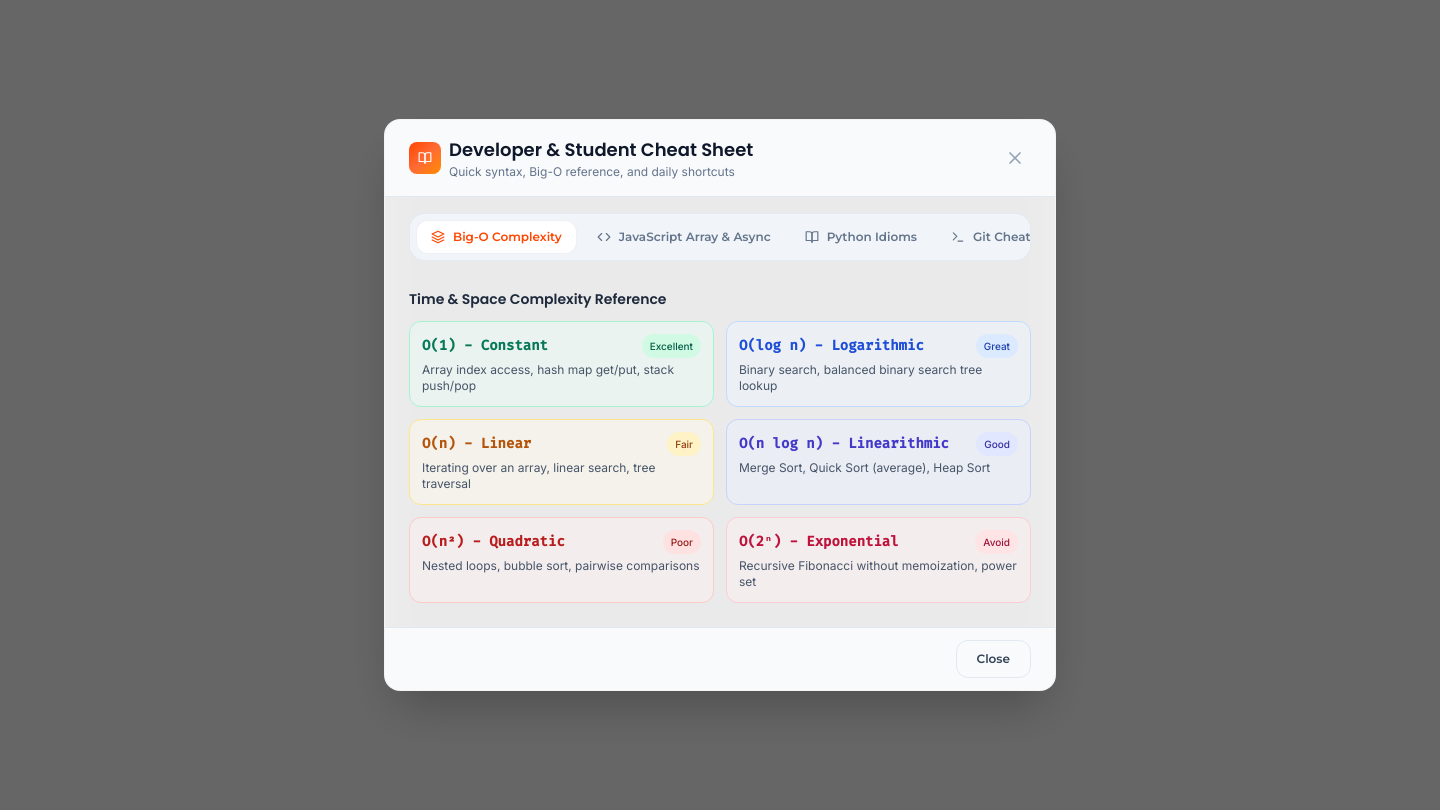
Test: Developer & Student Tools Test Suite › 2. CheatSheetModal Component › switches to Python Idioms and Git Cheatsheet tabs
The image size is (1440, 810).
Click the button "Python Idioms" at (861, 237), box x1=791 y1=221 x2=931 y2=253
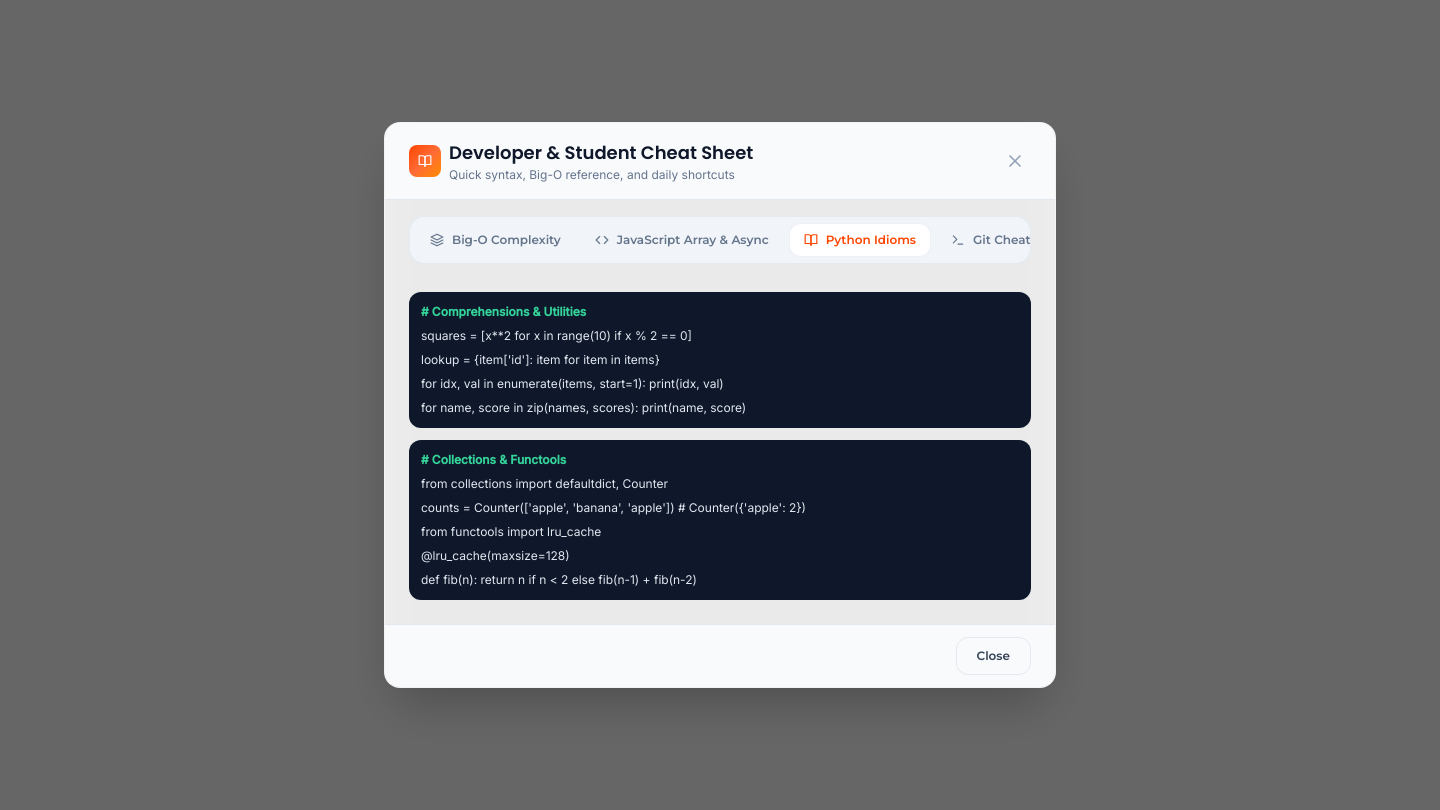
Now the text "# Comprehensions & Utilities" is shown, box x1=421 y1=304 x2=586 y2=319
Click the button "Git Cheatsheet" at (1008, 240), box x1=937 y1=224 x2=1079 y2=256
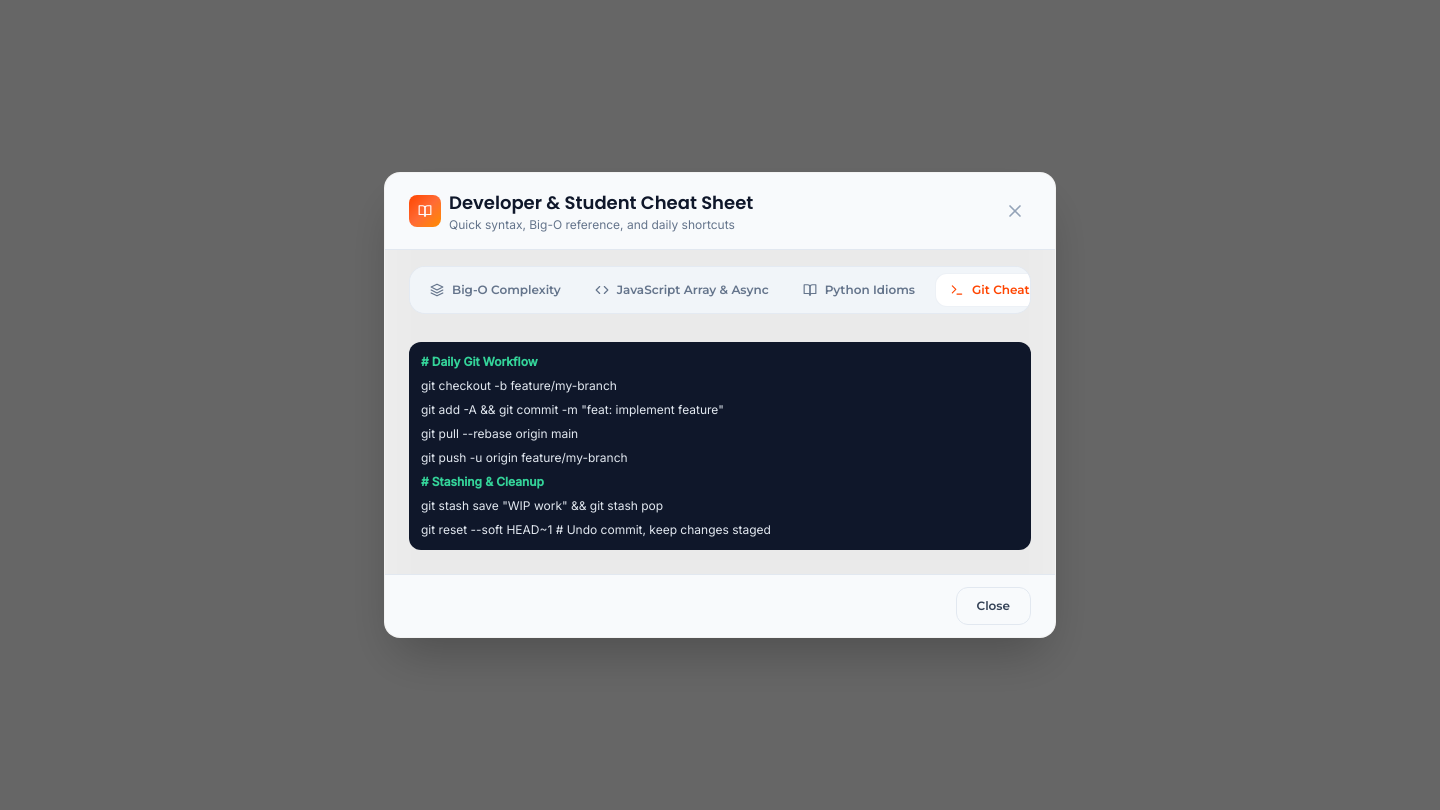
Now the text "# Daily Git Workflow" is shown, box x1=421 y1=354 x2=538 y2=369
